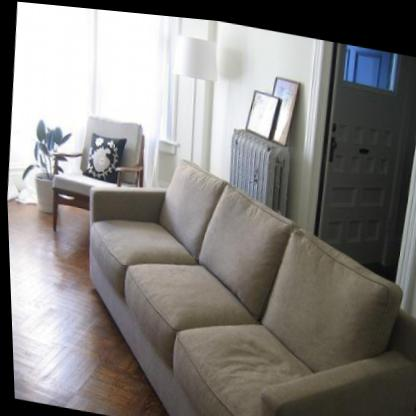Chair: (44, 107, 149, 251)
Sofa: (88, 156, 416, 416)
